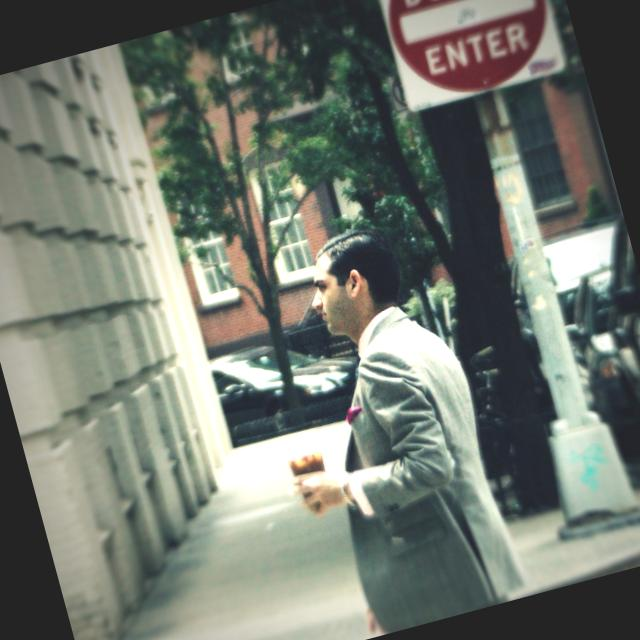Vehicle: (497, 212, 640, 404), (208, 320, 375, 444), (553, 264, 640, 480), (578, 209, 640, 507)
